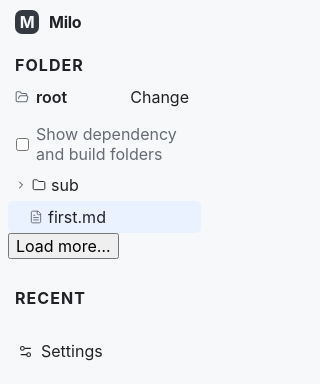
it: folder expansion and request lifetimes › ignores a retired StrictMode request after the newer listing has loaded more pages
The width and height of the screenshot is (320, 384).
Expected: the button "first.md" is shown, top-left (8, 201), bottom-right (201, 233)
Click the button "Load more…" at [63, 246], box top-left (8, 233), bottom-right (119, 259)
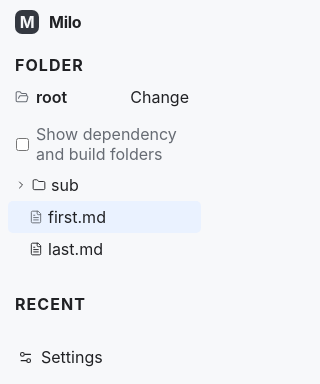
Result: the button "last.md" is shown at top-left (8, 233), bottom-right (201, 265)
